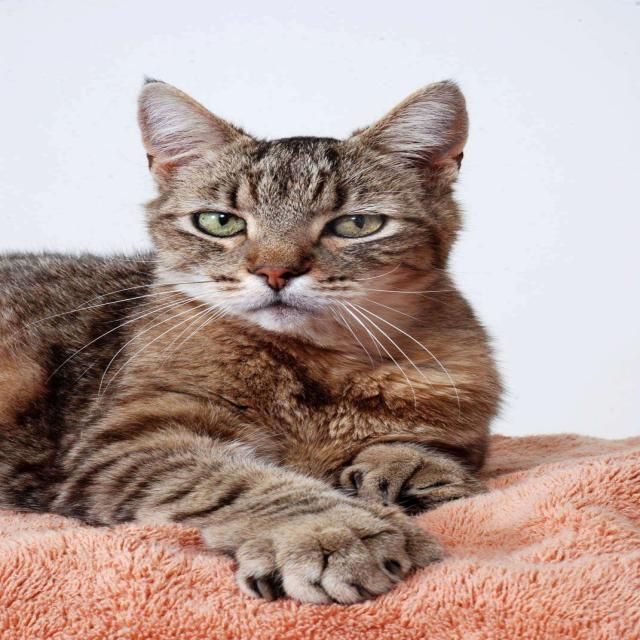cat: (120, 119, 473, 392)
